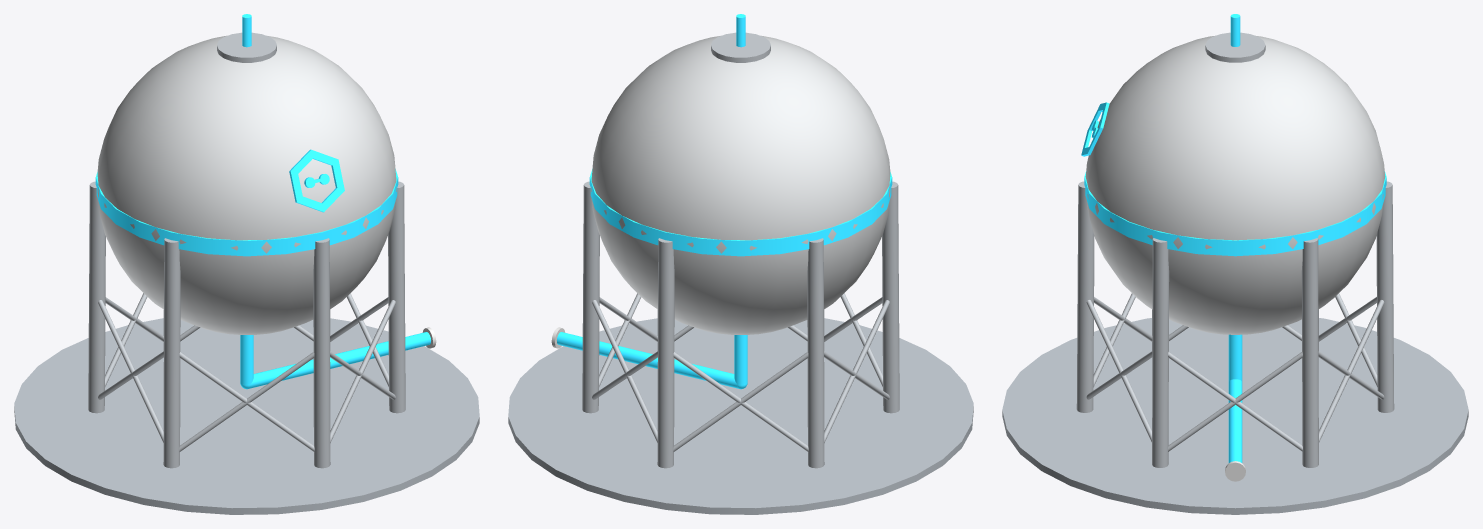
The model's file is H2Storage-sphere.glb.
3 views of the same model, side by side, from view 1: azimuth 30°, elevation 25°; view 2: azimuth 150°, elevation 25°; view 3: azimuth 270°, elevation 25° (orthographic).
Parts seen in each view (by area): view 1: sphere, pad, leg (×4), band, brace (×4), pipe (×2), platform, hex; view 2: sphere, pad, leg (×4), band, brace (×4), pipe (×2), platform; view 3: sphere, pad, leg (×4), band, brace (×4), pipe (×2), platform, hex.
Boxes of the visible parts, box(x1,y1,x2,y2) form: sphere: box(97, 35, 396, 334); pad: box(14, 318, 479, 514); leg (×4): box(88, 181, 405, 468); band: box(95, 169, 398, 256); brace (×4): box(98, 300, 395, 451); pipe (×2): box(240, 332, 430, 388); platform: box(217, 32, 276, 62); hex: box(289, 149, 344, 212); sphere: box(591, 35, 890, 334); pad: box(508, 318, 973, 514); leg (×4): box(582, 181, 899, 468); band: box(589, 169, 892, 256); brace (×4): box(592, 300, 889, 451); pipe (×2): box(557, 332, 747, 388); platform: box(711, 32, 770, 62); sphere: box(1085, 35, 1385, 334); pad: box(1002, 318, 1468, 514); leg (×4): box(1076, 181, 1394, 467); band: box(1084, 171, 1386, 256); brace (×4): box(1086, 300, 1384, 451); pipe (×2): box(1228, 334, 1242, 462); platform: box(1205, 32, 1265, 62); hex: box(1081, 102, 1109, 156).
Size of the model in its own units: 12.4 by 11.75 by 12.4.
